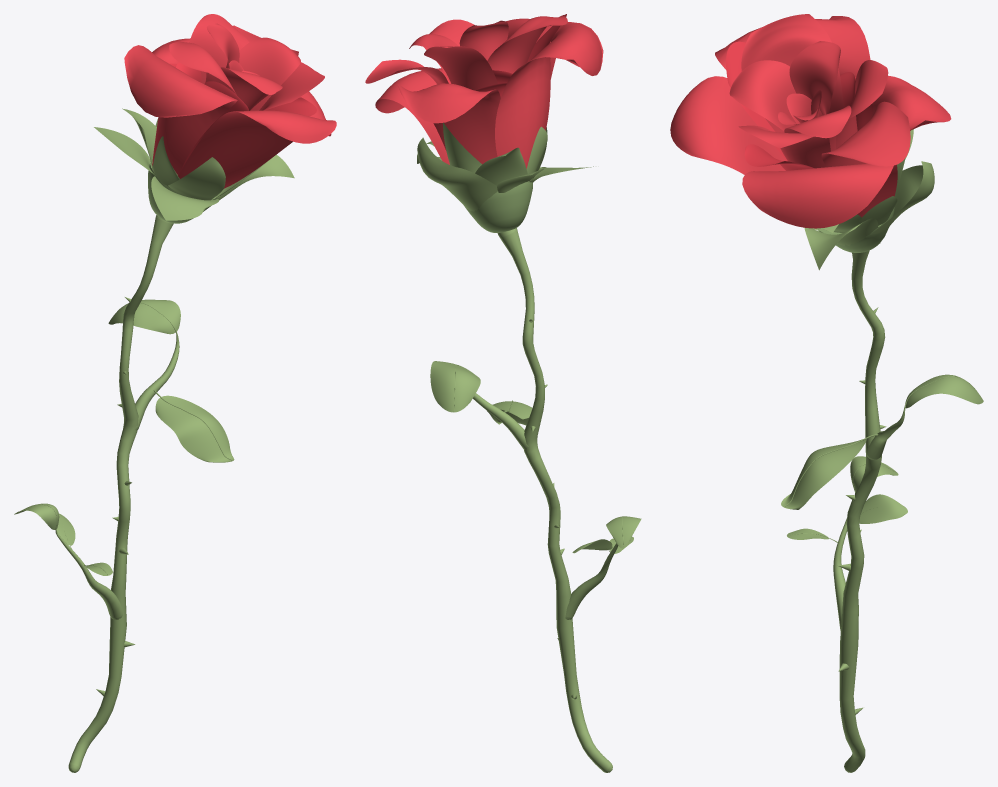
The model's file is rose.glb.
3 renders of one model, left to right at view 1: azimuth 30°, elevation 25°; view 2: azimuth 150°, elevation 25°; view 3: azimuth 270°, elevation 25°, orthographic. The views are drawn at different scales.
Parts seen in each view (by area): view 1: buffer-0-mesh-0_0, buffer-0-mesh-0_3, buffer-0-mesh-0_4; view 2: buffer-0-mesh-0_0, buffer-0-mesh-0_3, buffer-0-mesh-0_2, buffer-0-mesh-0_4; view 3: buffer-0-mesh-0_0, buffer-0-mesh-0_3, buffer-0-mesh-0_4, buffer-0-mesh-0_2.
Part boxes in pixels (<box>): buffer-0-mesh-0_0: <box>124,14,336,188</box>; buffer-0-mesh-0_3: <box>14,108,294,772</box>; buffer-0-mesh-0_4: <box>170,62,316,171</box>; buffer-0-mesh-0_0: <box>365,15,603,168</box>; buffer-0-mesh-0_3: <box>417,122,641,772</box>; buffer-0-mesh-0_2: <box>464,180,532,232</box>; buffer-0-mesh-0_4: <box>442,14,566,97</box>; buffer-0-mesh-0_0: <box>670,14,951,228</box>; buffer-0-mesh-0_3: <box>781,129,983,772</box>; buffer-0-mesh-0_4: <box>726,41,873,170</box>; buffer-0-mesh-0_2: <box>817,207,894,252</box>.
Bounding box in the file's own units: 0.2362 × 0.6069 × 0.2155.
